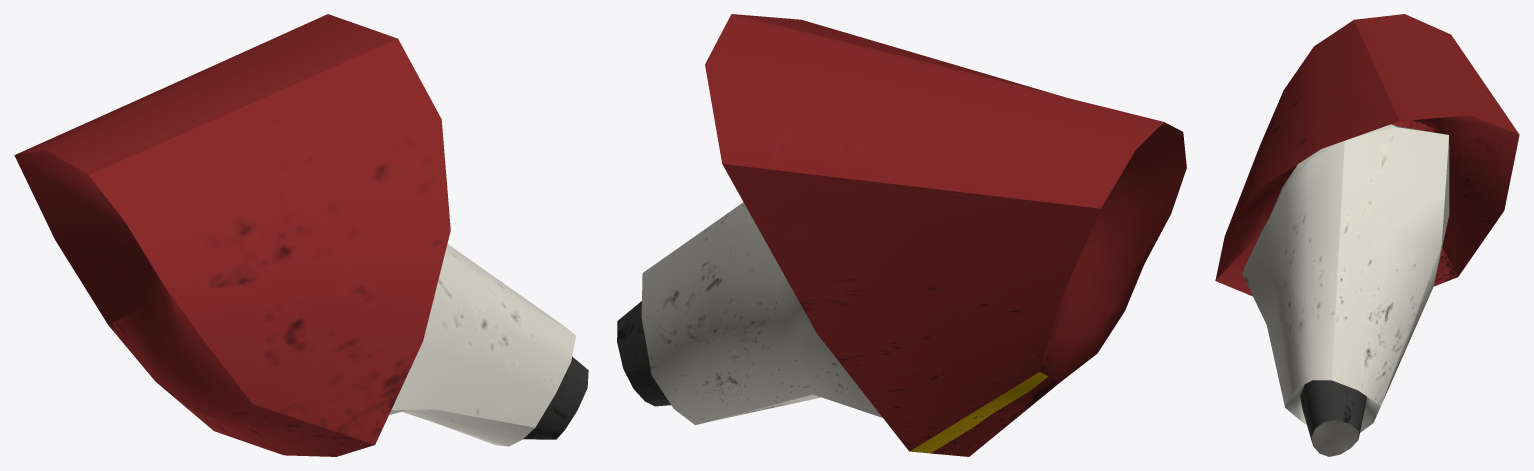
The model's file is Mech_1_Lshoulder.fbx.
The picture shows the model from 3 angles, left to right: view 1: azimuth 30°, elevation 25°; view 2: azimuth 150°, elevation 25°; view 3: azimuth 270°, elevation 25°; orthographic projection. The views are drawn at different scales.
Visible parts, largest first — view 1: l.shoulder; view 2: l.shoulder; view 3: l.shoulder.
Boxes of the visible parts, bbox=[...] form: l.shoulder: bbox=[14, 14, 588, 456]; l.shoulder: bbox=[617, 14, 1186, 456]; l.shoulder: bbox=[1215, 14, 1519, 456].
Size of the model in its own units: 1.15 by 0.8833 by 0.8199.
